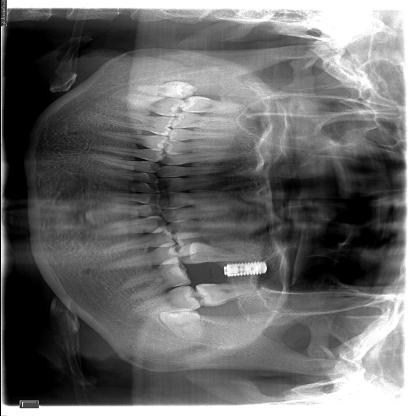ITI: (218, 260, 272, 278)
